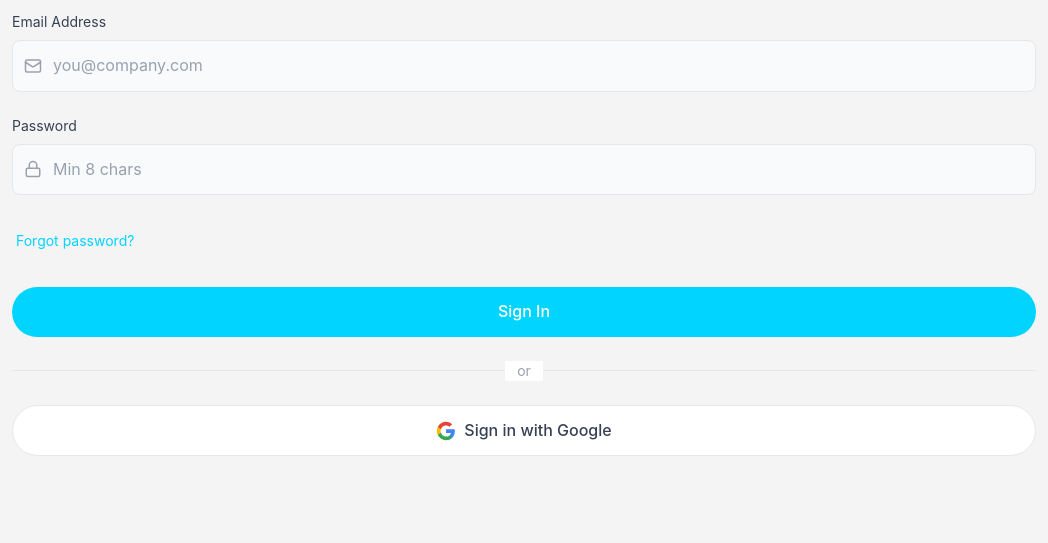
Test: LoginForm › displays error on auth failure
The image size is (1048, 543).
Type "test@test.com" into the field labelled "Email Address" at (524, 66), box x1=12 y1=40 x2=1036 y2=92
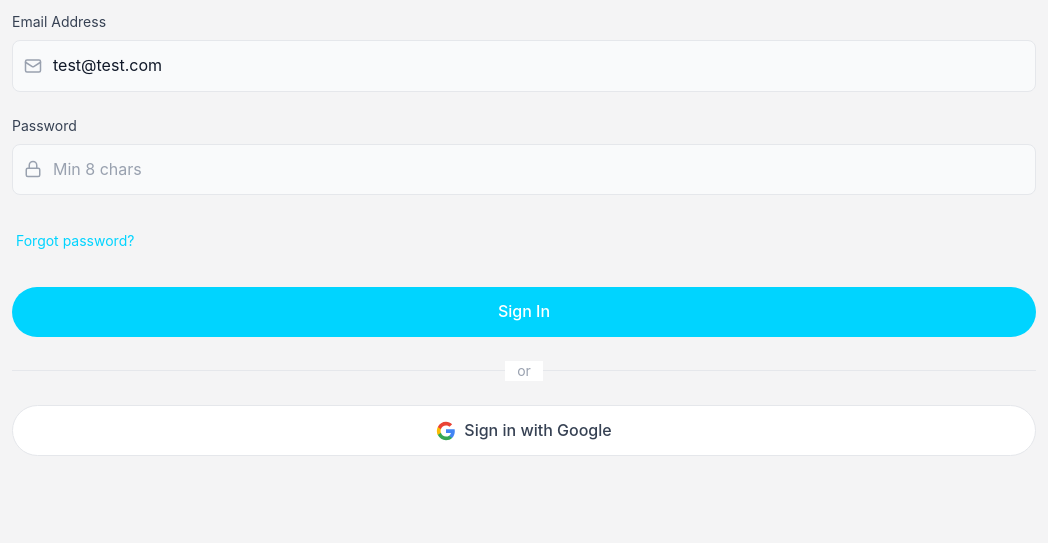
Type "wrong" into the password field labelled "Password" at (524, 169), box x1=12 y1=144 x2=1036 y2=195
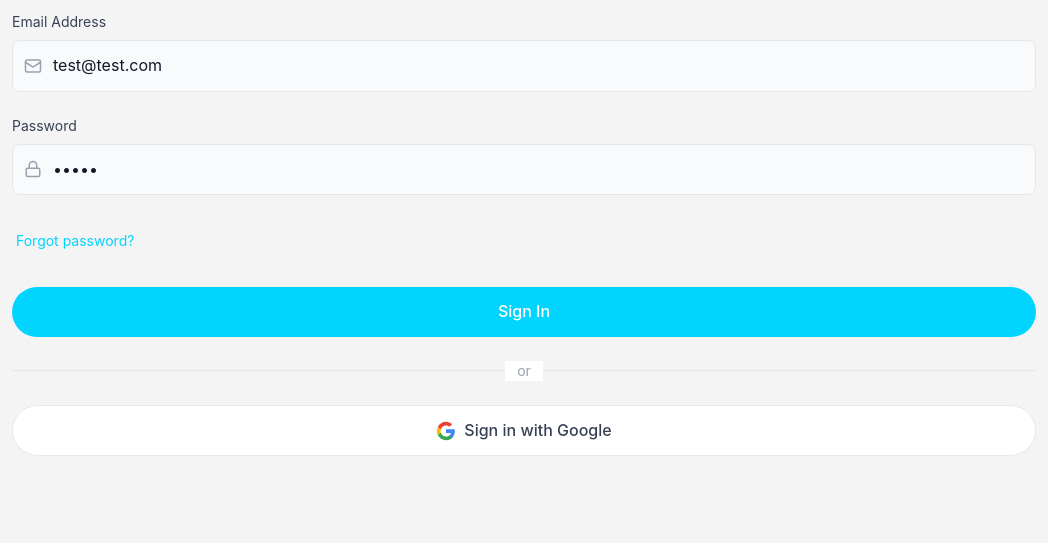
Click the button "Sign In" at (524, 312), box x1=12 y1=287 x2=1036 y2=337
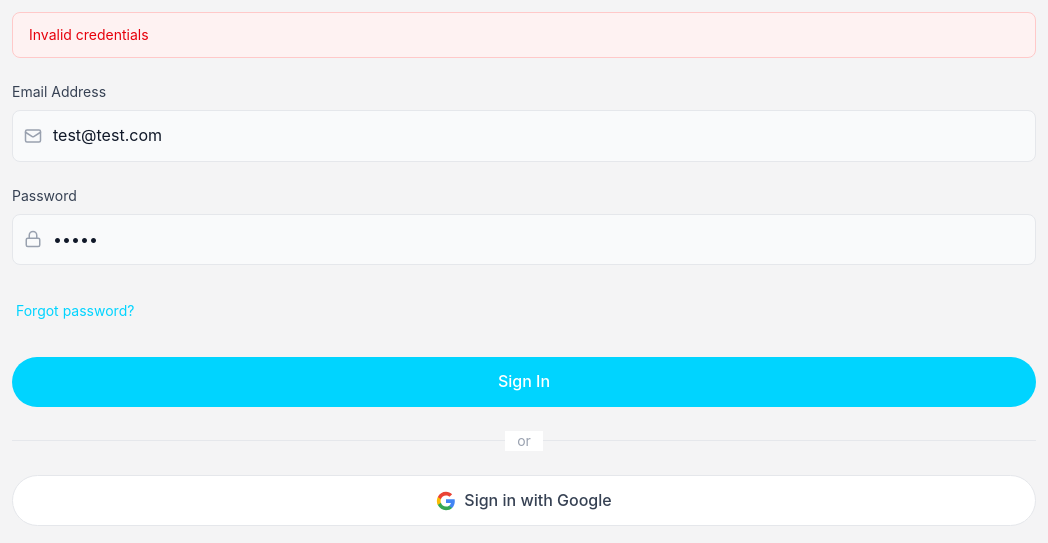
Now the text "Invalid credentials" is shown, box x1=12 y1=12 x2=1036 y2=58
